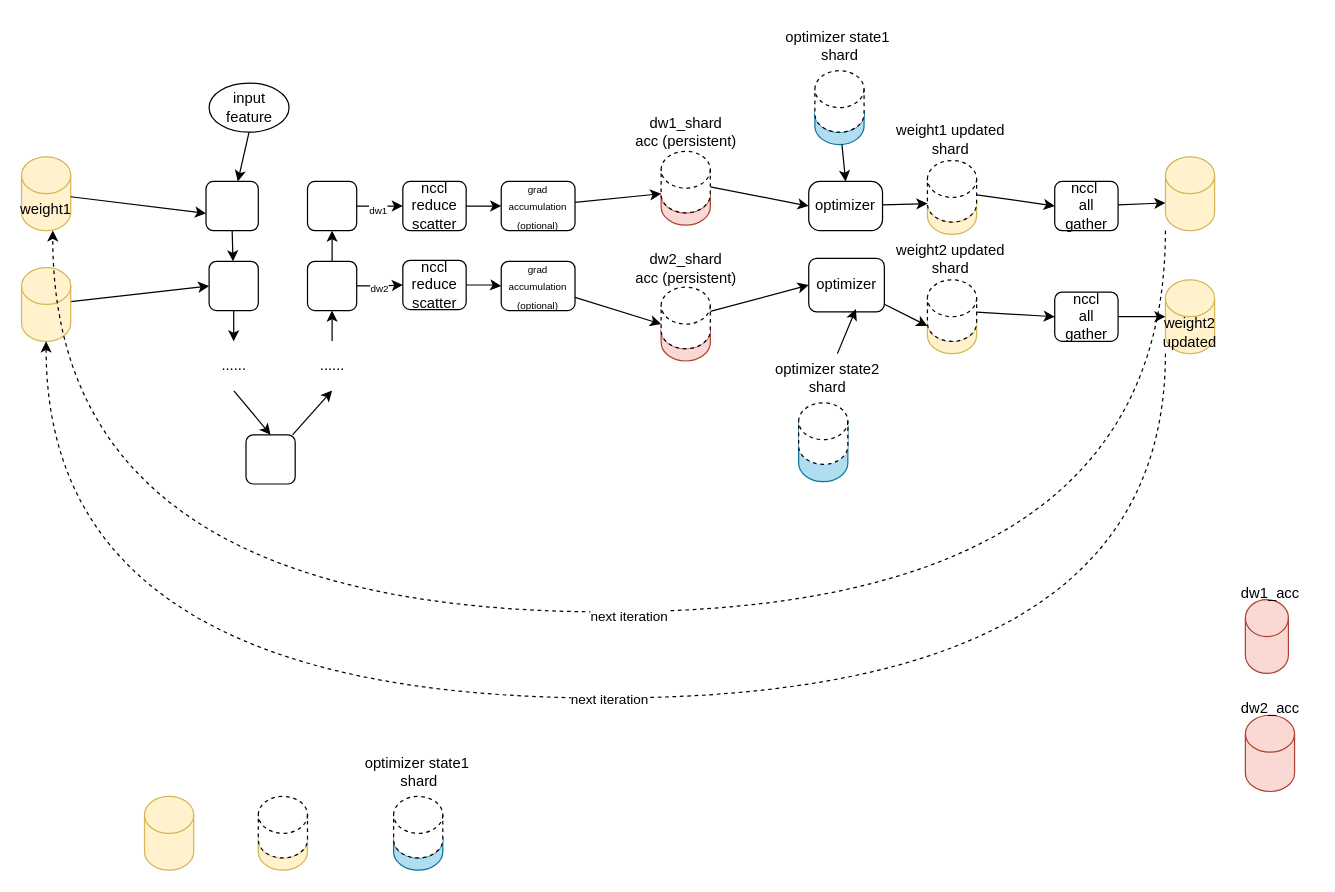
Image size: 1335x892. Some labels were removed from this diagram. Here are the shapes that lost their labels. From the top down, the centre of each, then its label:
the point at 231,205: OP1
the point at 331,205: OP1 bwd
the point at 1189,193: weight1 updated
the point at 45,303: weight2
the point at 233,285: OP2
the point at 331,285: OP2 bwd
the point at 270,459: loss
